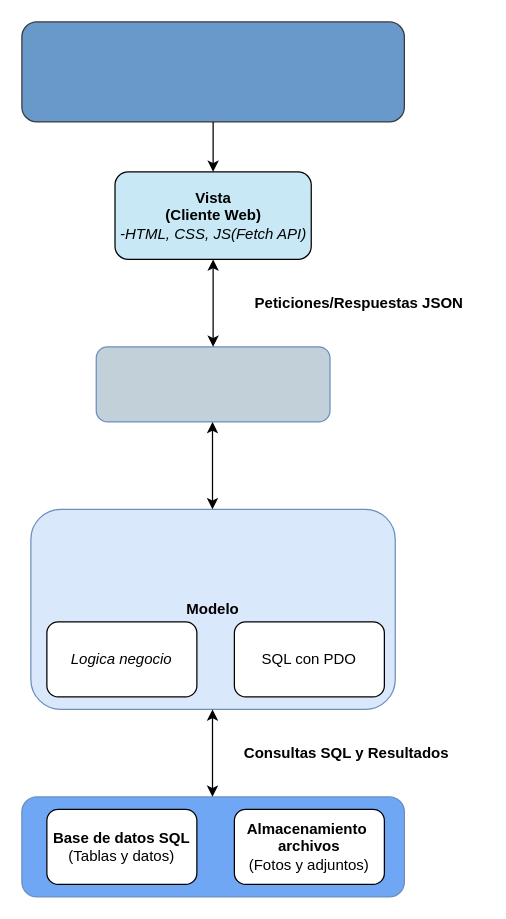
Some shapes in this 506 by 919 pixel diagram are drawn without their labels. The centre of each missing label's shape, as x and y in pixels:
"Controlador -Recibe datos, los valida, responde JSON" goes at (x=212, y=384).
"Usuario y administrador ( Trabajadores/Ingenieros de Aergibide SL )" goes at (x=212, y=71).
